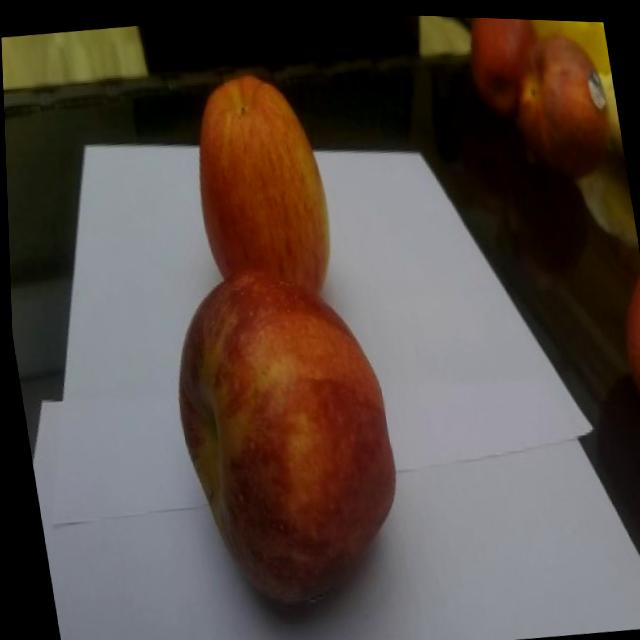Apple: (155, 252, 413, 617), (180, 63, 340, 306), (611, 264, 640, 427)
